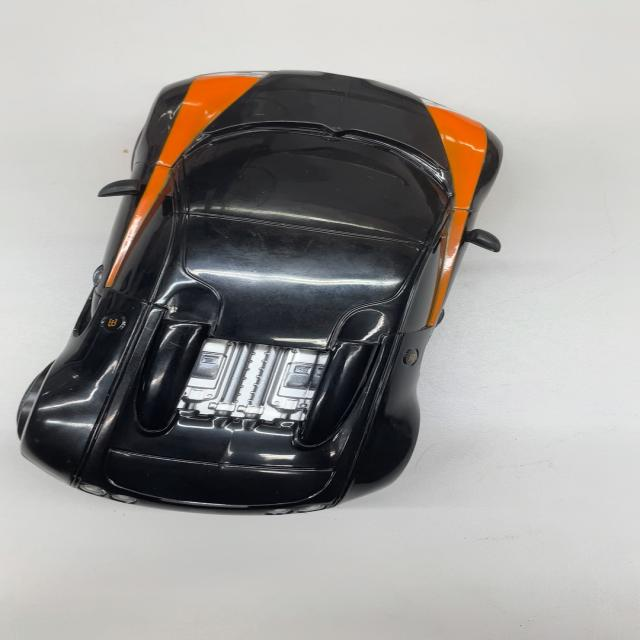vehicle_body: (15, 66, 517, 517)
